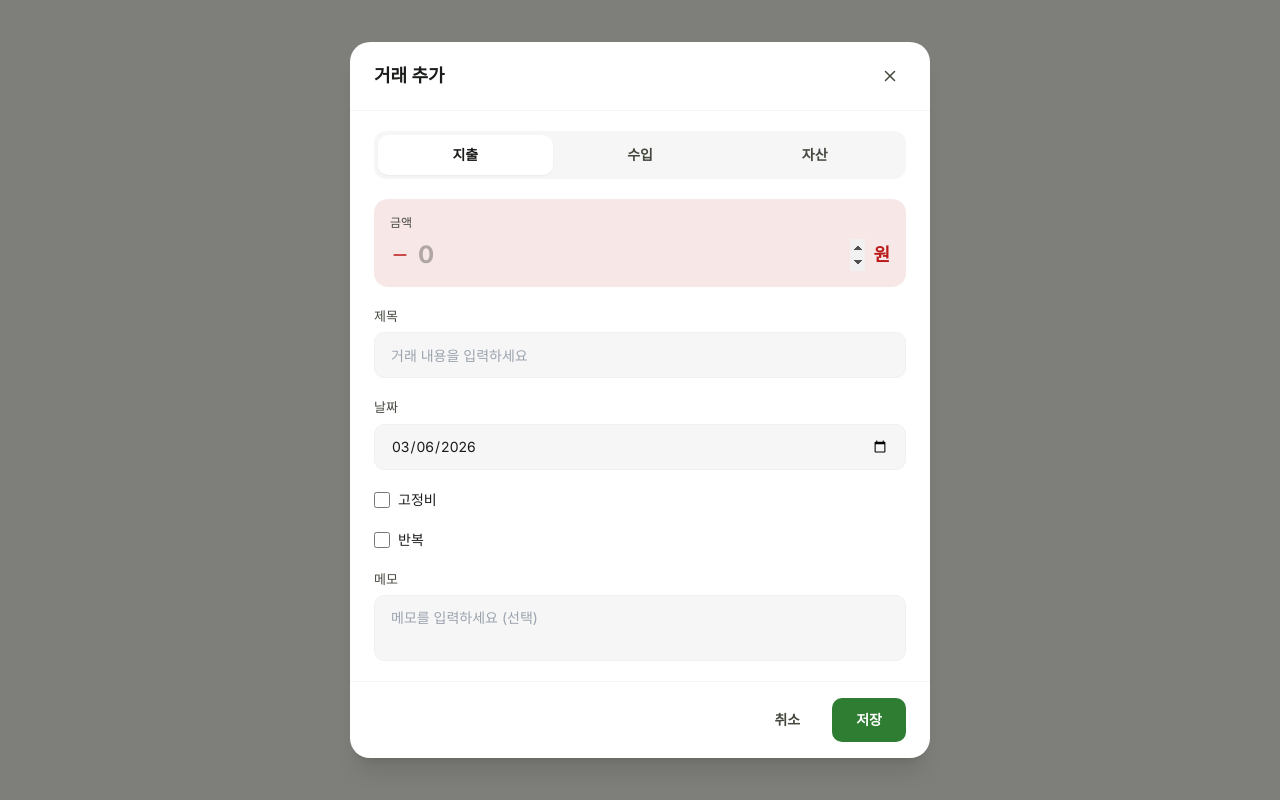
Scenario: AddTransactionDialog › 유효성 검사 › 금액 미입력 시 에러 메시지가 표시되어야 한다
In the field with placeholder "거래 내용을 입력하세요": point(640, 355) [374,332,906,378], type "테스트"
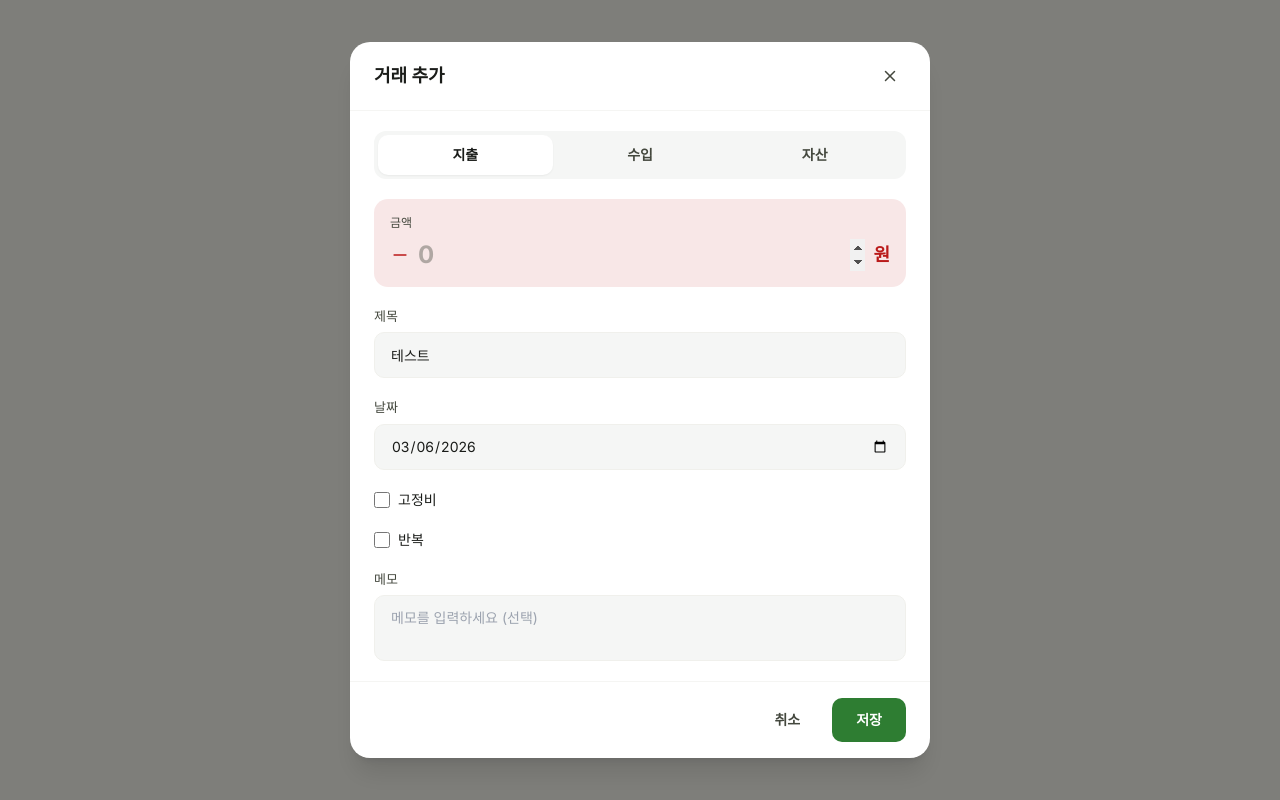
Click the button "저장": point(869, 720) [832,698,906,742]
(page scrolled)
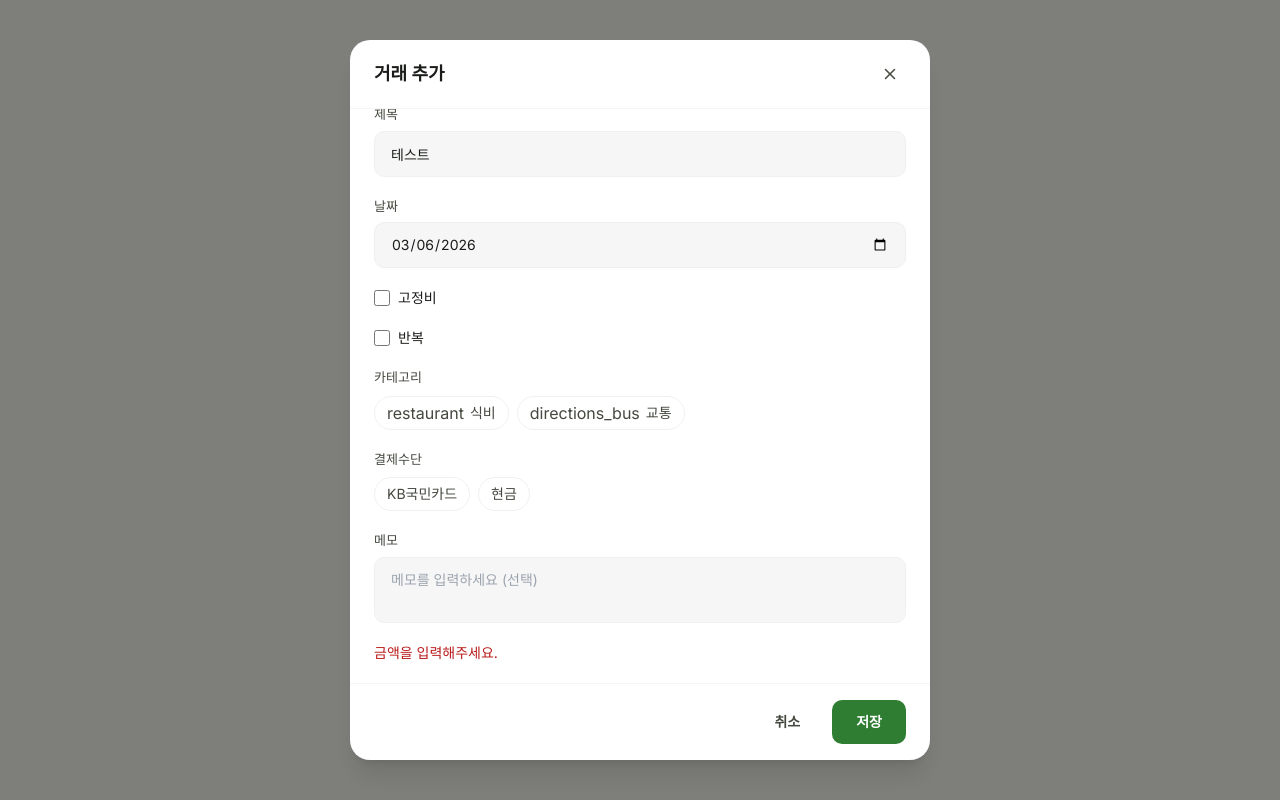
Expected: the text "금액을 입력해주세요." is shown, [374,644,498,660]
